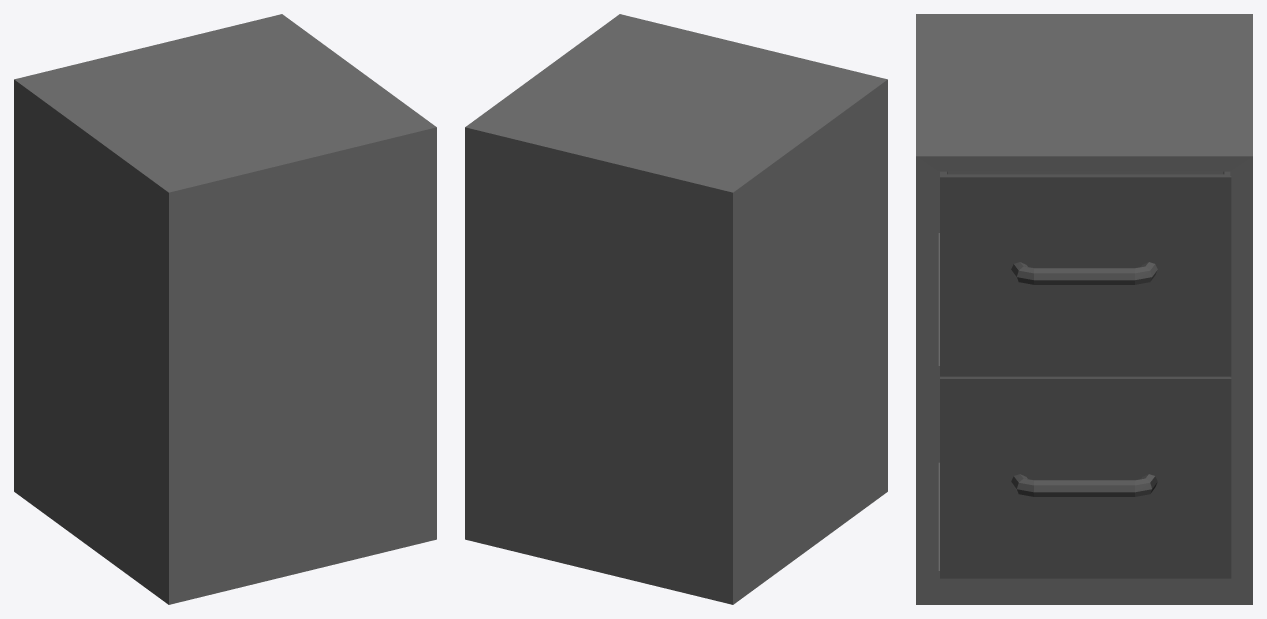
File: Cajones.fbx
The picture shows the model from 3 angles, left to right: view 1: azimuth 30°, elevation 25°; view 2: azimuth 150°, elevation 25°; view 3: azimuth 270°, elevation 25°; orthographic projection. The views are drawn at different scales.
Parts seen in each view (by area): view 1: Cajones; view 2: Cajones; view 3: Cajones, Cajon1, Cajon2.
Part boxes in pixels (box(x1,y1,x2,y2)): Cajones: box(14, 14, 436, 604); Cajones: box(465, 14, 887, 604); Cajones: box(916, 14, 1252, 604); Cajon1: box(940, 171, 1231, 376); Cajon2: box(940, 376, 1231, 578).
Bounding box in the file's own units: 101 × 137 × 92.93.
